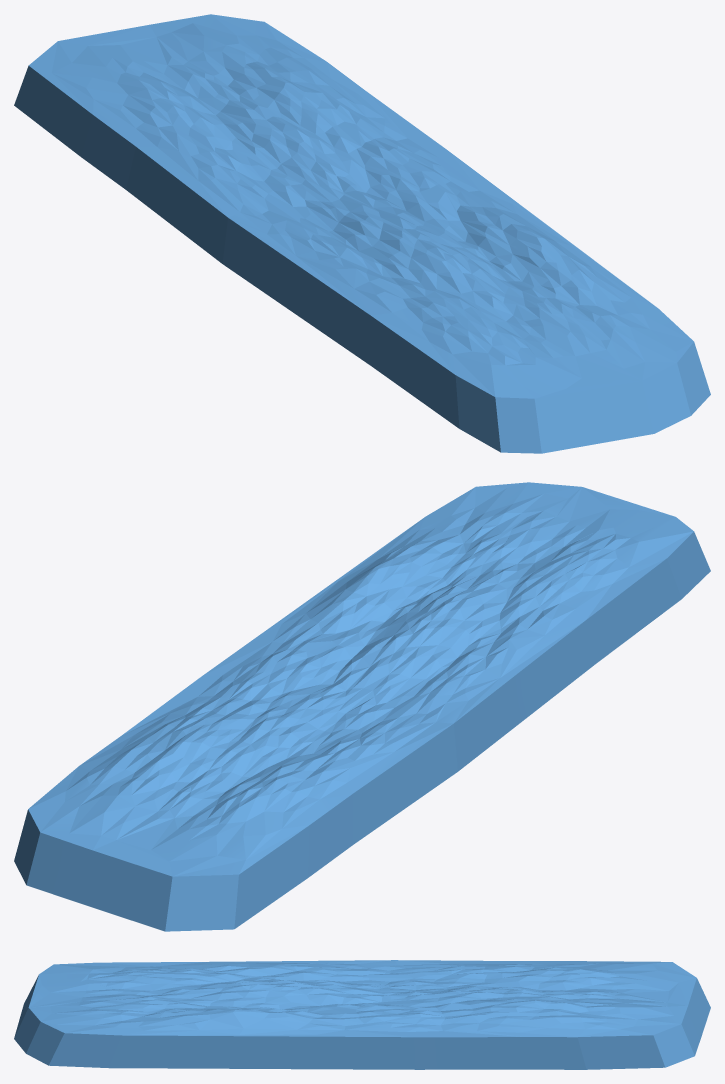
The model's file is Rio-2.fbx.
3 renders of one model, top to bottom at view 1: azimuth 30°, elevation 25°; view 2: azimuth 150°, elevation 25°; view 3: azimuth 270°, elevation 25°, orthographic. The views are drawn at different scales.
Visible parts, largest first — view 1: PP_Meadow_07; view 2: PP_Meadow_07; view 3: PP_Meadow_07.
Part boxes in pixels (x1,y1,x2,y2): PP_Meadow_07: (14, 14, 710, 453); PP_Meadow_07: (14, 482, 710, 931); PP_Meadow_07: (14, 960, 710, 1069).
Bounding box in the file's own units: 1102 × 283 × 4032.
